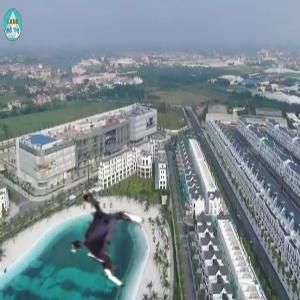drone: (59, 192, 152, 285)
